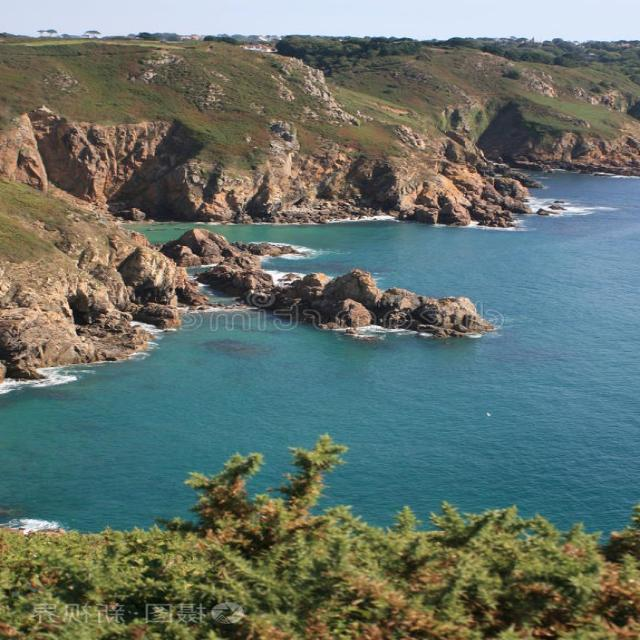reef: (128, 225, 512, 379)
